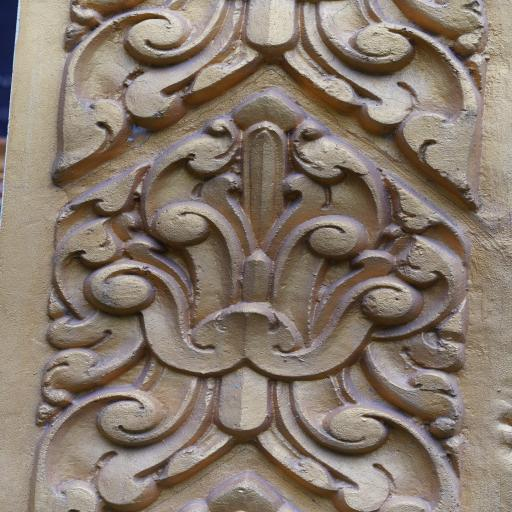la: (56, 84, 459, 512), (60, 2, 482, 206)
